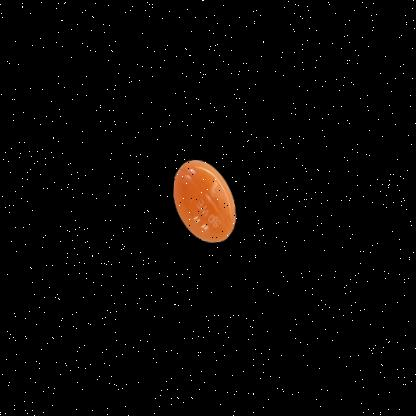welood: (148, 133, 286, 270)
